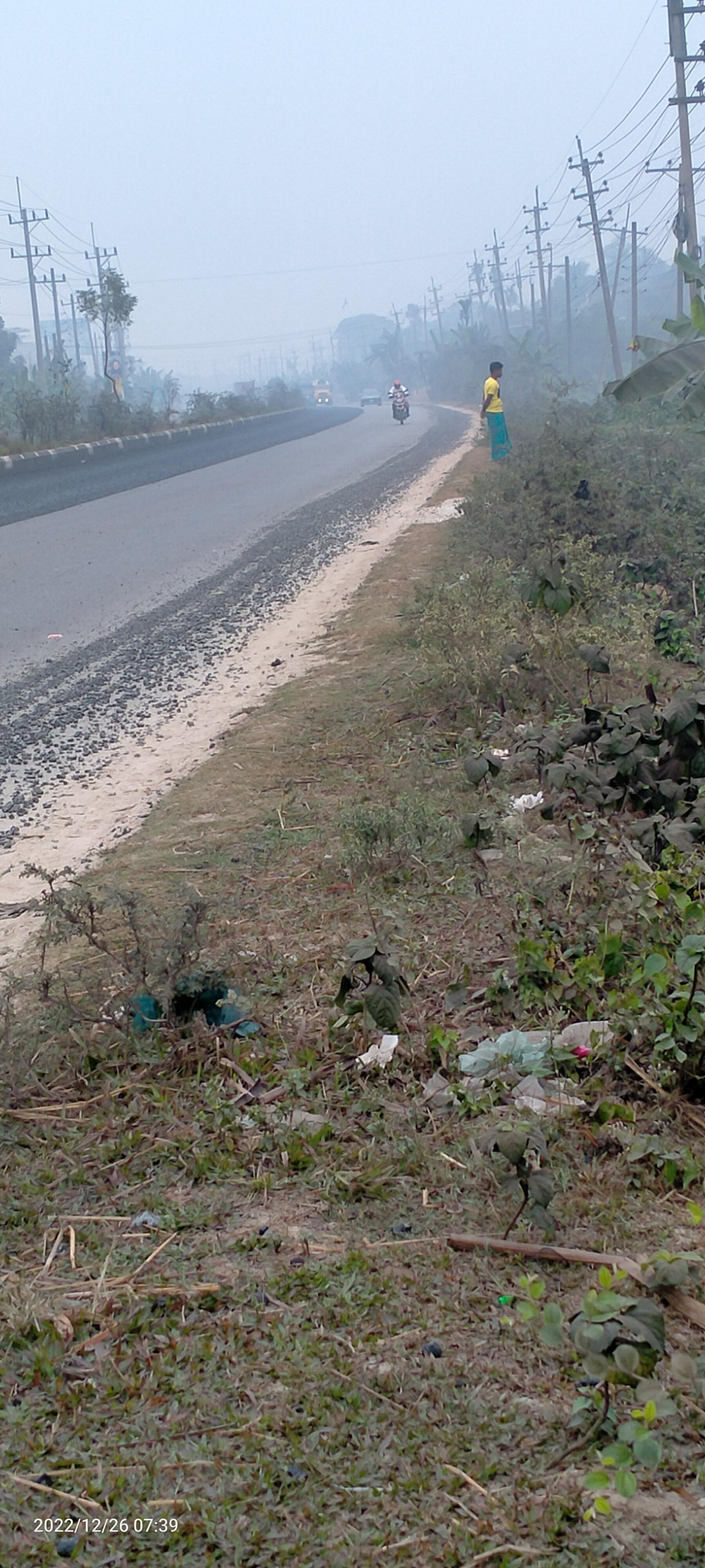Bike: (387, 381, 415, 425)
Car: (355, 383, 388, 415)
Truck: (306, 373, 339, 412)
